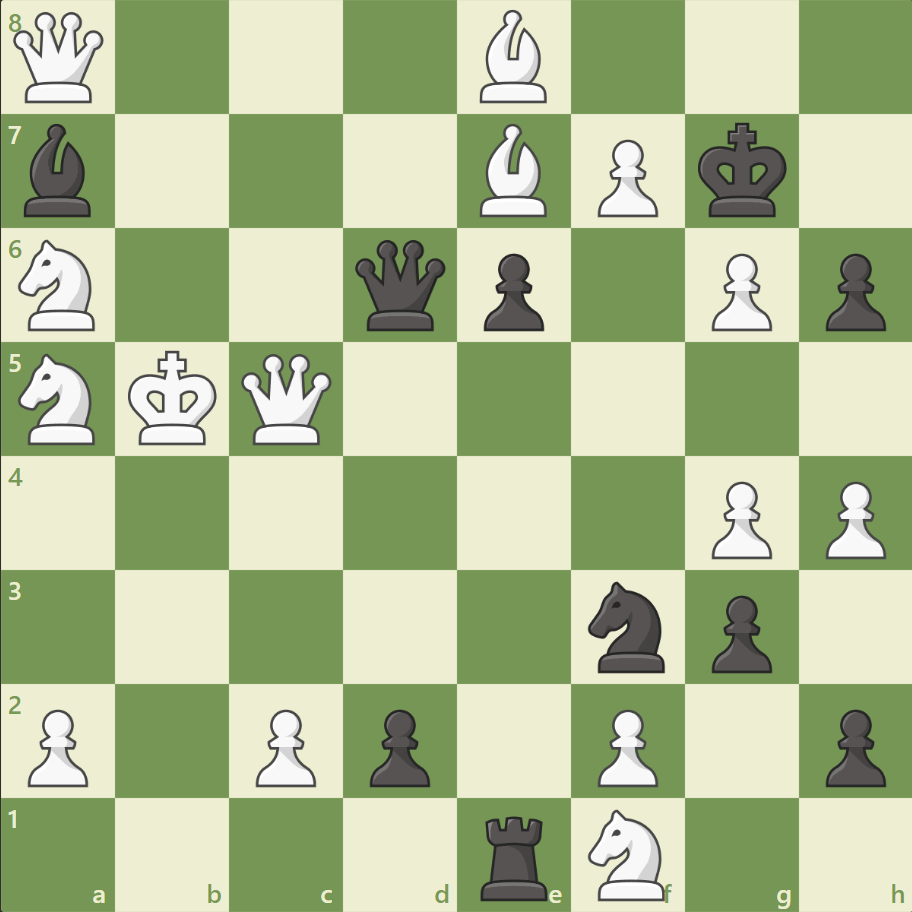B: (471, 6, 555, 109), (471, 120, 555, 222)
K: (124, 344, 224, 452)
N: (11, 234, 108, 337), (11, 348, 108, 450), (579, 802, 676, 904)
P: (701, 246, 776, 337), (701, 473, 776, 564), (20, 700, 95, 791), (247, 700, 322, 791), (588, 132, 662, 223), (815, 473, 889, 564), (588, 700, 662, 791)
Q: (237, 349, 336, 449), (10, 9, 109, 108)
b: (17, 120, 101, 222)
k: (692, 117, 792, 225)
n: (579, 575, 676, 677)
p: (474, 246, 549, 337), (701, 586, 776, 677), (815, 246, 889, 337), (361, 700, 435, 791), (815, 700, 889, 791)
q: (351, 236, 450, 335)
r: (473, 806, 556, 904)
